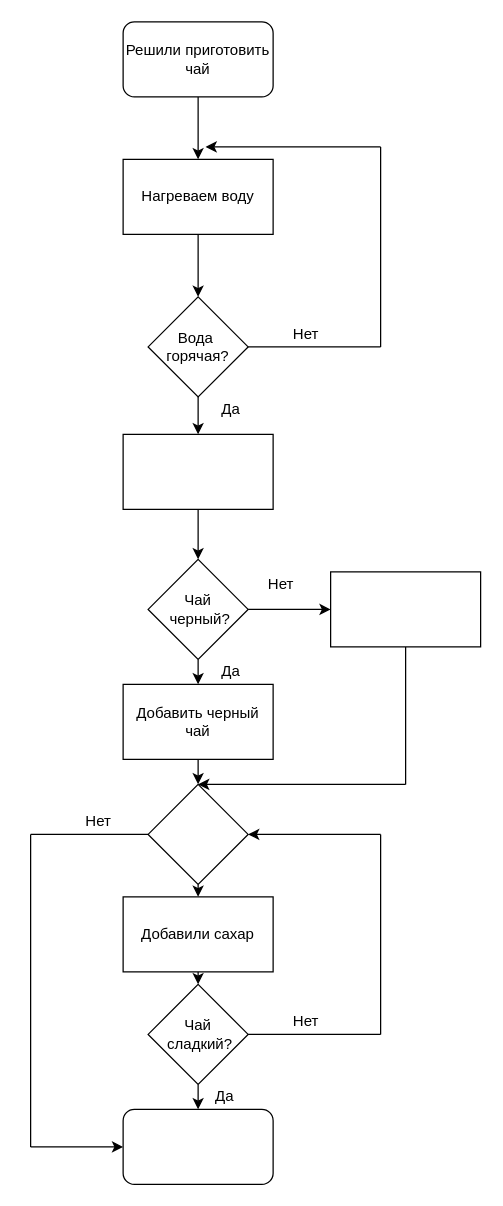
Image size: 503x1206. Some labels were removed from this diagram. Each missing label, with the centre of its shape:
Добавить зеленый чай: point (405, 609)
Добавить сахар?: point (197, 833)
Добавить чай: point (197, 471)
Чай готов: point (197, 1146)
